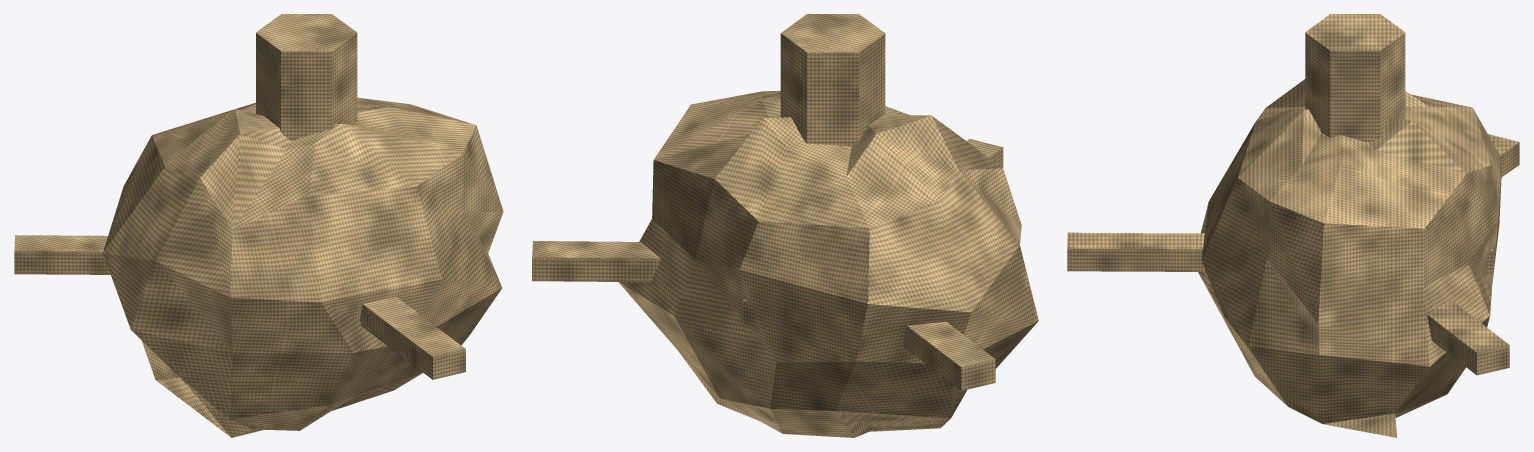
File: find-incense.glb
The picture shows the model from 3 angles, left to right: view 1: azimuth 30°, elevation 25°; view 2: azimuth 150°, elevation 25°; view 3: azimuth 270°, elevation 25°; orthographic projection. The views are drawn at different scales.
Visible parts, largest first — view 1: find-incense; view 2: find-incense; view 3: find-incense.
Part boxes in pixels (x1=…): find-incense: x1=14, y1=14, x2=503, y2=437; find-incense: x1=532, y1=14, x2=1038, y2=437; find-incense: x1=1067, y1=14, x2=1519, y2=437.
Size of the model in its own units: 0.4139 by 0.3377 by 0.3616.
Materials: 1 (1 with a texture image).
